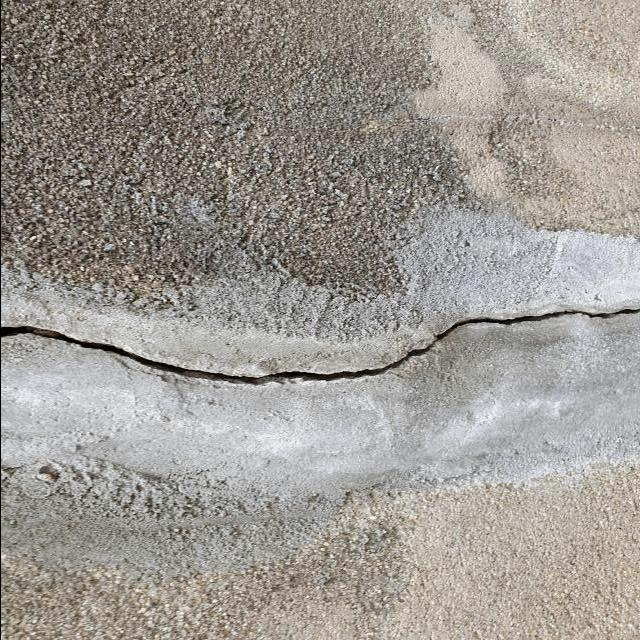SurfaceCrack: (1, 258, 640, 418)
